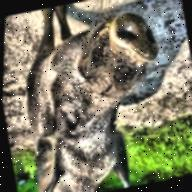boar: (0, 0, 190, 192)
